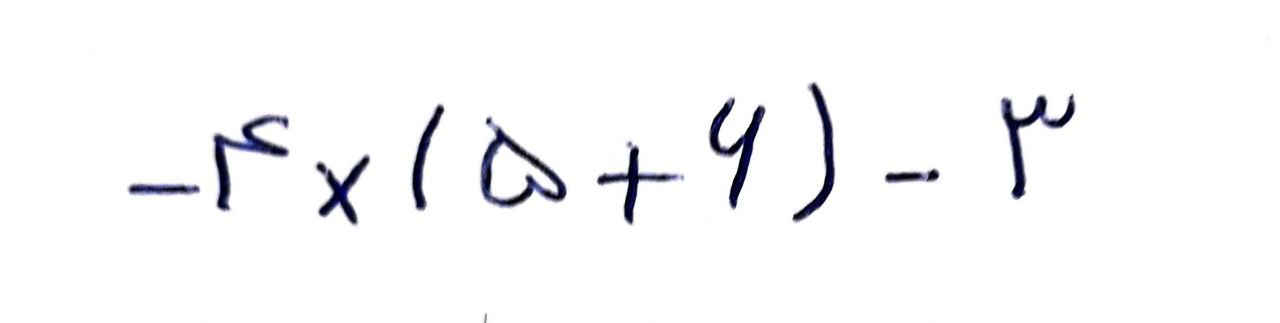character: (998, 92, 1078, 199), (478, 119, 570, 206), (212, 114, 291, 209), (597, 144, 687, 226), (790, 80, 836, 222), (707, 97, 765, 207), (314, 152, 368, 227), (413, 102, 450, 211), (127, 182, 201, 199), (886, 169, 941, 184)
